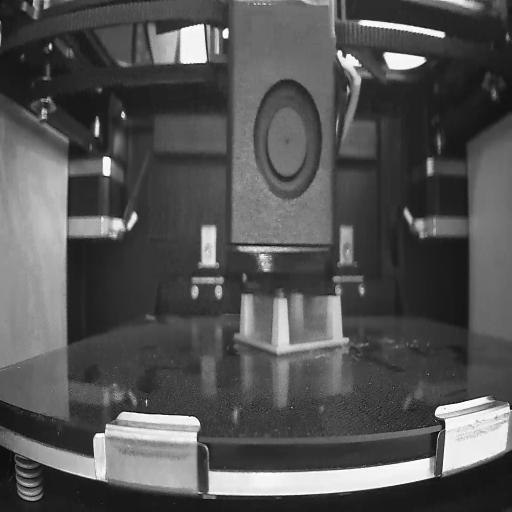stringing: (286, 295, 332, 346), (242, 290, 272, 348)
